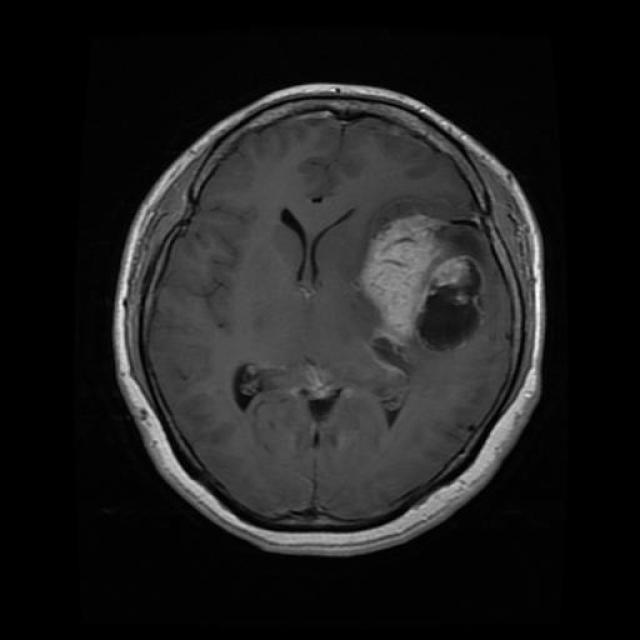meningioma: (362, 216, 441, 326)
